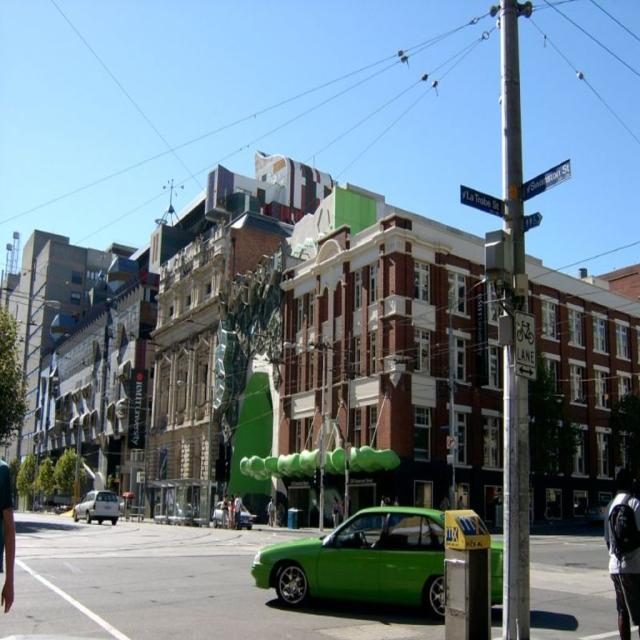car: (70, 489, 121, 523)
